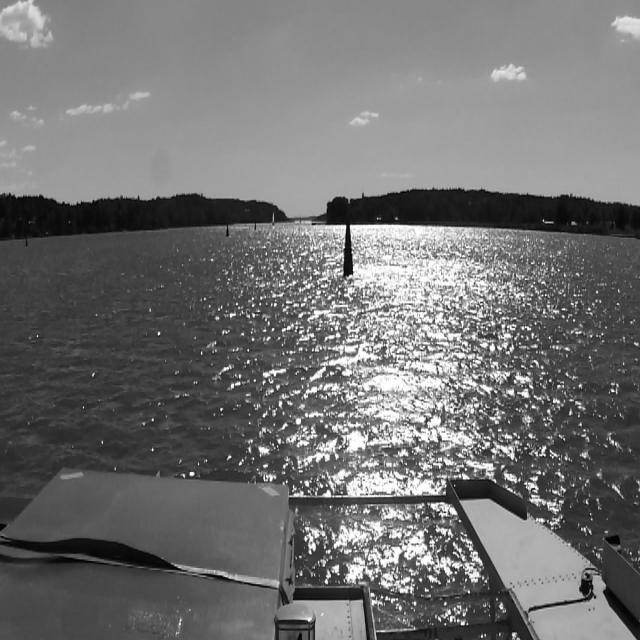buoy: (340, 209, 354, 282), (224, 220, 230, 238), (24, 233, 28, 249), (253, 219, 257, 232)
